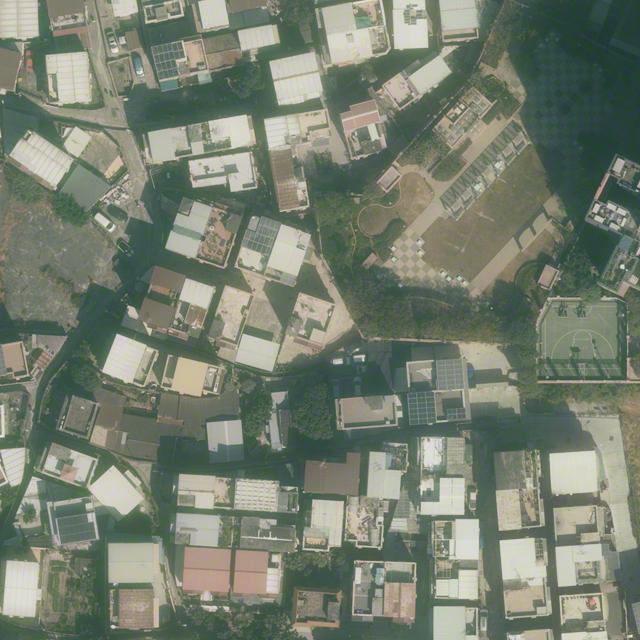panel: (407, 392, 437, 428), (151, 43, 179, 81), (435, 358, 465, 391), (240, 229, 275, 257), (57, 522, 96, 545), (256, 215, 282, 239), (57, 514, 89, 527), (171, 41, 185, 60), (447, 407, 466, 419)
